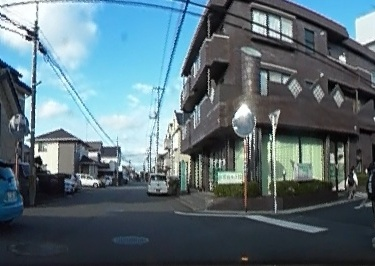person: (346, 164, 358, 194)
